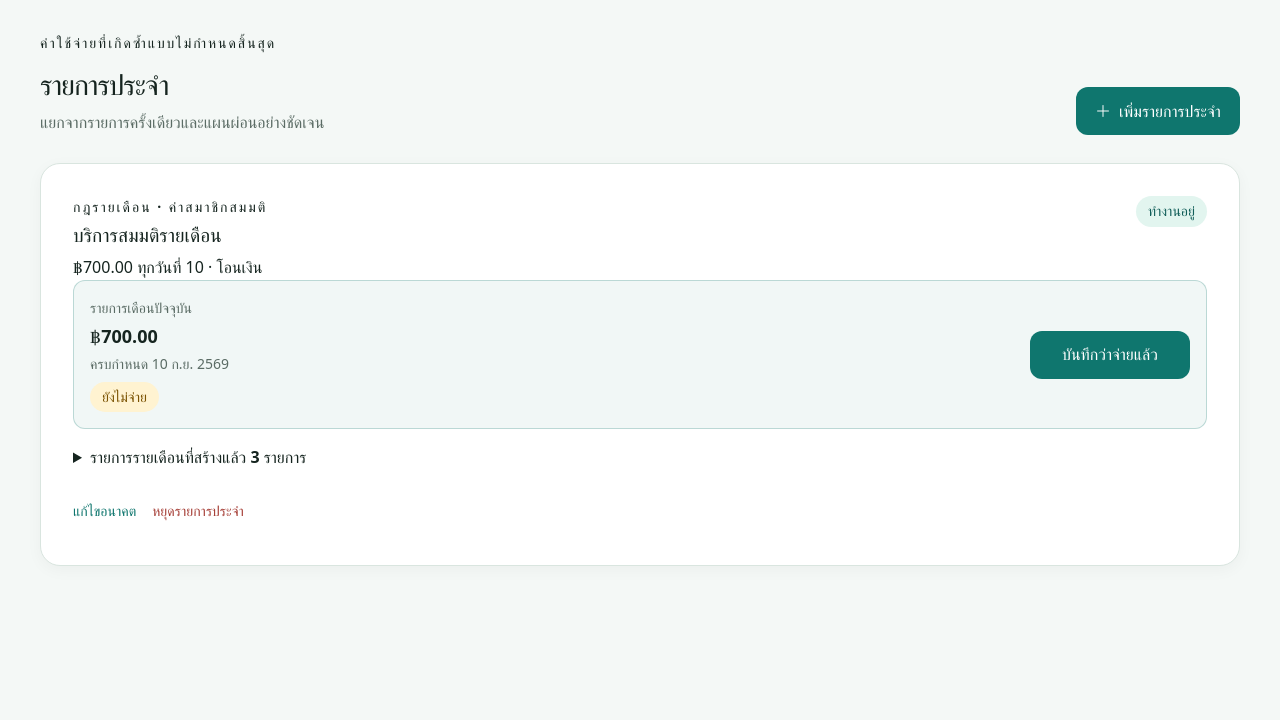
finance pages › separates recurring rule and occurrence statuses and explains future changes
expect the heading "บริการสมมติรายเดือน" is shown: met, box [73,221,222,248]
expect the text "กฎรายเดือน · ค่าสมาชิกสมมติ" is shown: met, box [73,197,267,216]
Click the heading "รายการรายเดือนที่สร้างแล้ว 3 รายการ".
click(198, 458)  # box [90,446,306,468]
(page scrolled)
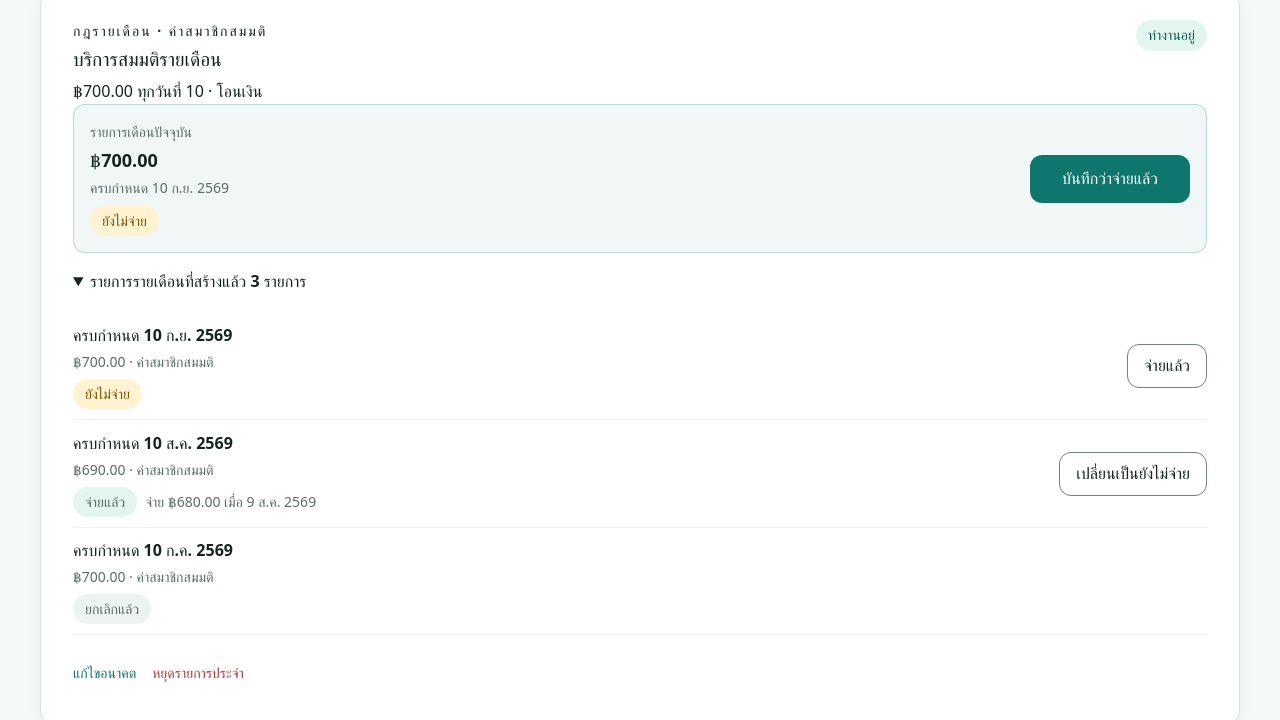
expect the text "ยังไม่จ่าย" is shown 2 times: met, box [90,206,159,236]; [73,379,142,409]
expect the number of buttons "จ่ายแล้ว" is 2: met, box [1127,345,1207,389]; [73,486,137,517]
expect the text "ยกเลิกแล้ว" is shown: met, box [73,594,151,624]
Click the button "แก้ไขอนาคต".
click(105, 674)  # box [73,652,136,696]
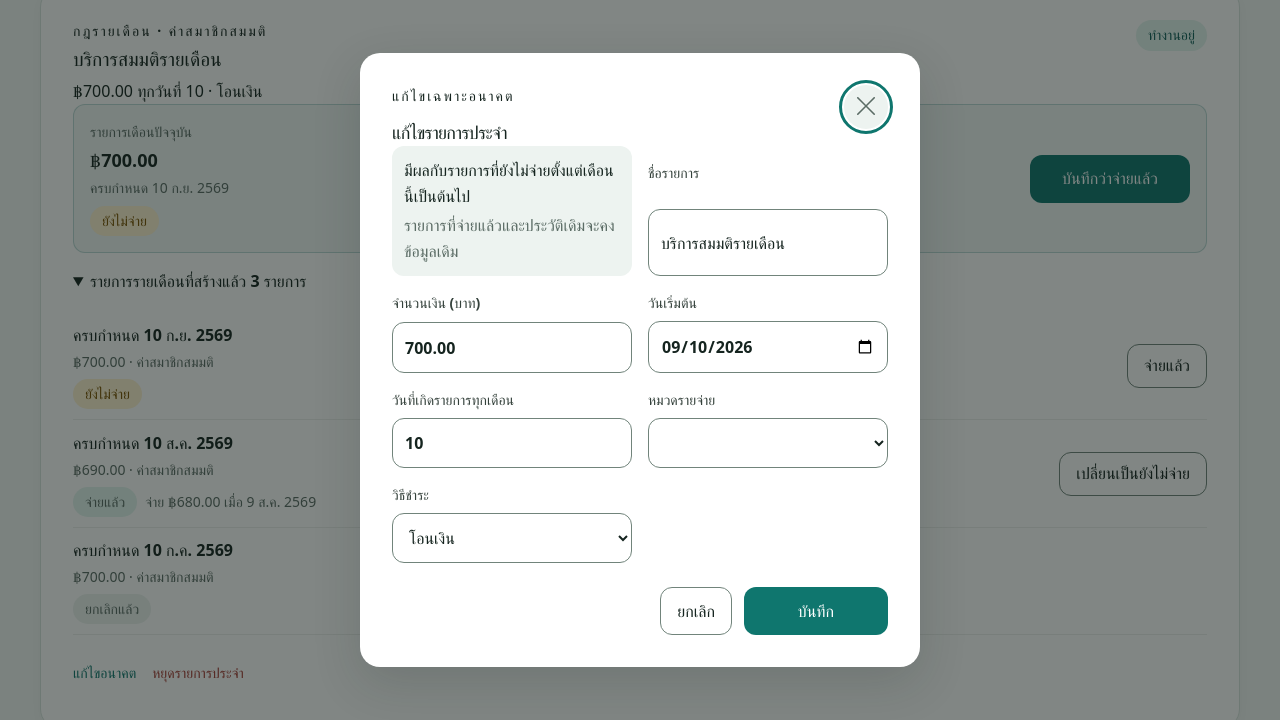
expect the text "มีผลกับรายการที่ยังไม่จ่ายตั้งแต่เดือนนี้เป็นต้นไป" is shown: met, box [404,158,620,209]
expect the text "รายการที่จ่ายแล้วและประวัติเดิมจะคงข้อมูลเดิม" is shown: met, box [404,213,620,264]
Click the button named "ปิด".
click(866, 107)  # box [844,85,888,129]
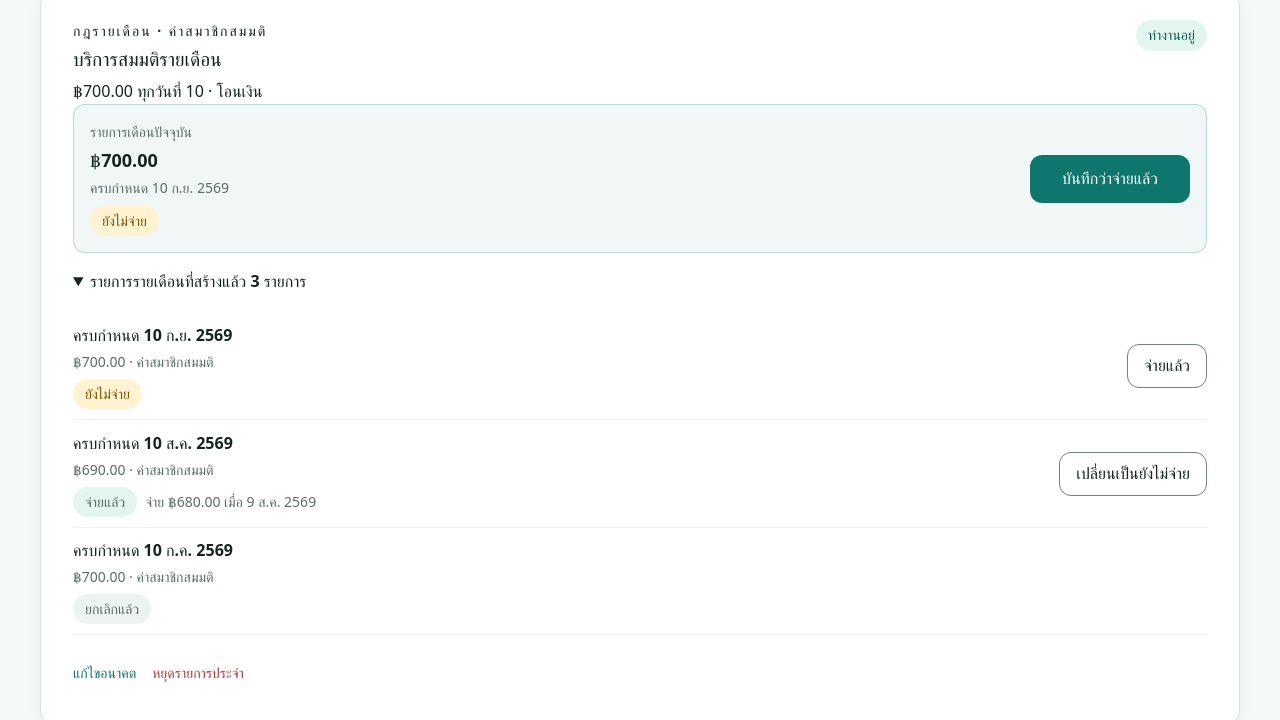
Click the button "หยุดรายการประจำ".
click(198, 674)  # box [152,652,244,696]
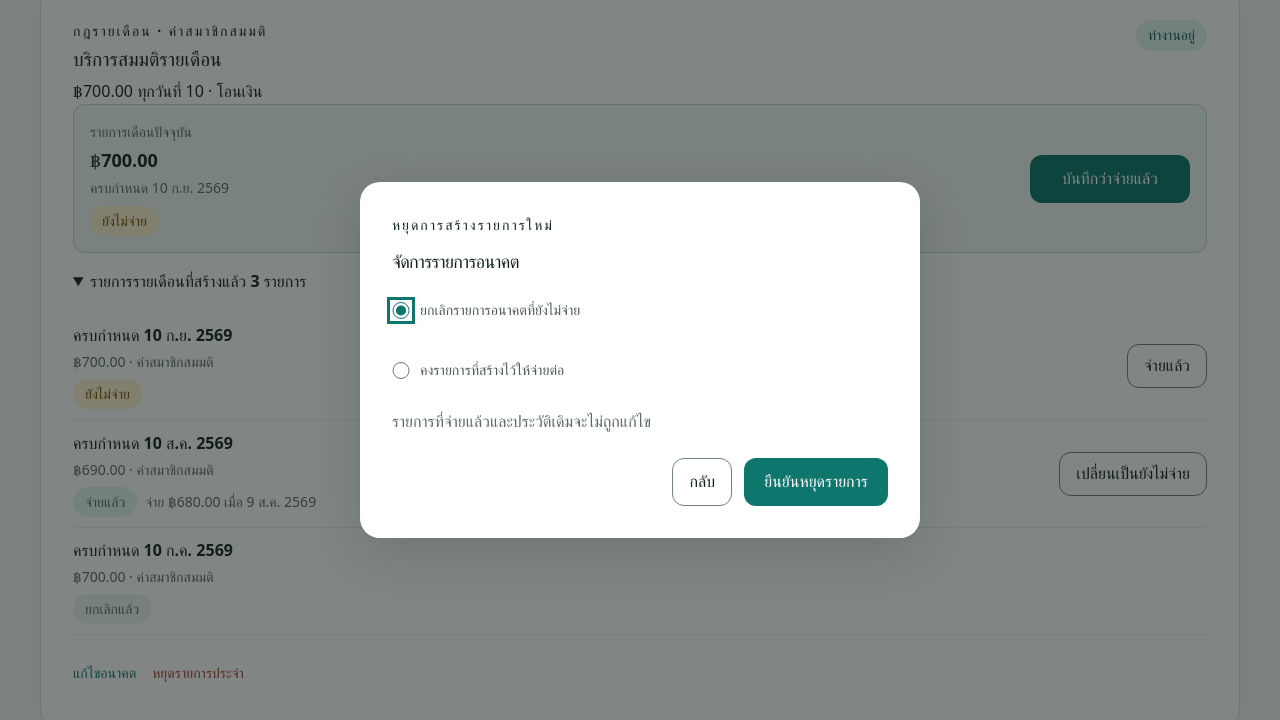
expect the dialog "จัดการรายการอนาคต" is shown: met, box [360,182,920,538]
expect the radio button labelled "ยกเลิกรายการอนาคตที่ยังไม่จ่าย" is checked: met, box [392,302,410,320]
expect the radio button labelled "คงรายการที่สร้างไว้ให้จ่ายต่อ" is shown: met, box [392,362,410,380]
